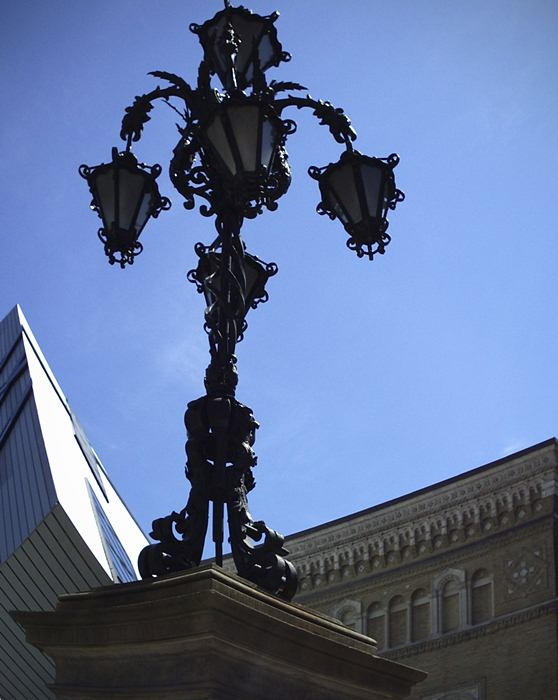fachada: (208, 432, 558, 700)
poste: (87, 0, 398, 605)
